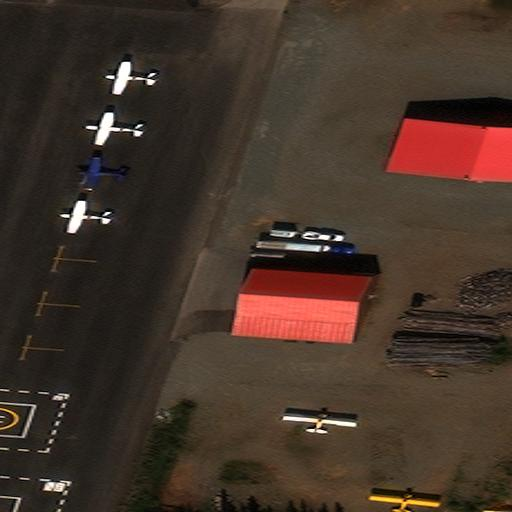Small Civil Transport: (85, 112, 145, 144), (105, 61, 160, 93), (60, 200, 112, 233), (283, 412, 357, 433), (78, 156, 125, 187), (369, 494, 440, 512)
